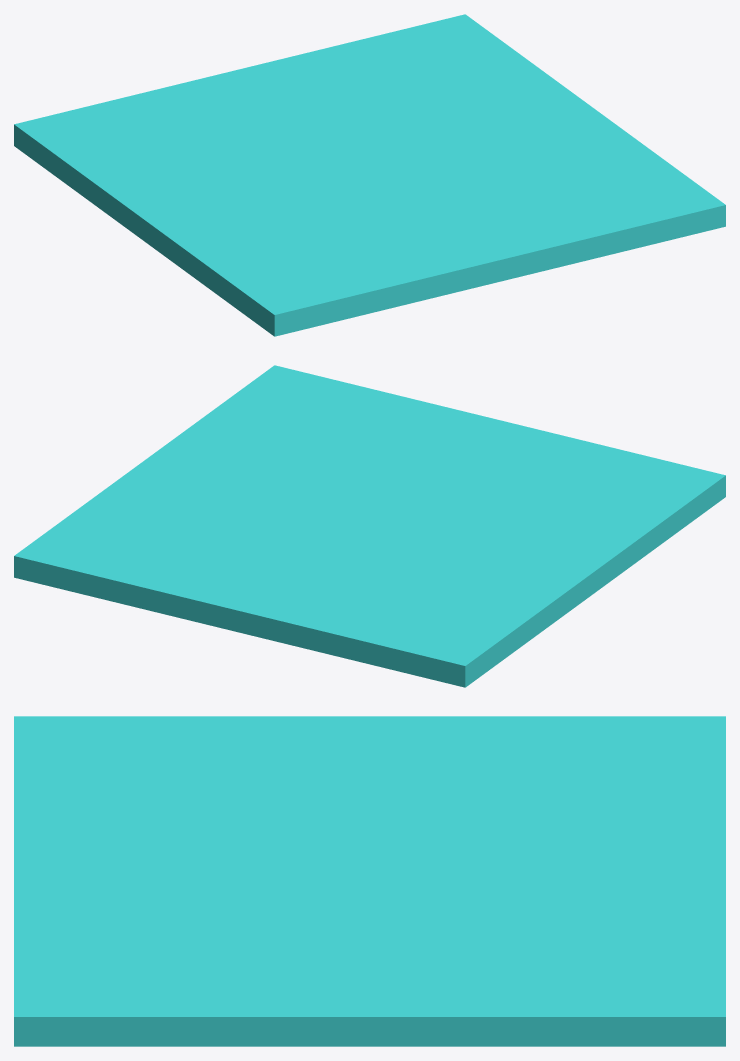
File: потолок.fbx
3 renders of one model, top to bottom at view 1: azimuth 30°, elevation 25°; view 2: azimuth 150°, elevation 25°; view 3: azimuth 270°, elevation 25°, orthographic. The views are drawn at different scales.
Parts seen in each view (by area): view 1: Куб; view 2: Куб; view 3: Куб.
Boxes of the visible parts, <box> form: Куб: <box>14,14,725,336</box>; Куб: <box>14,365,725,687</box>; Куб: <box>14,716,725,1046</box>.
Size of the model in its own units: 1000 by 58.55 by 1000.
